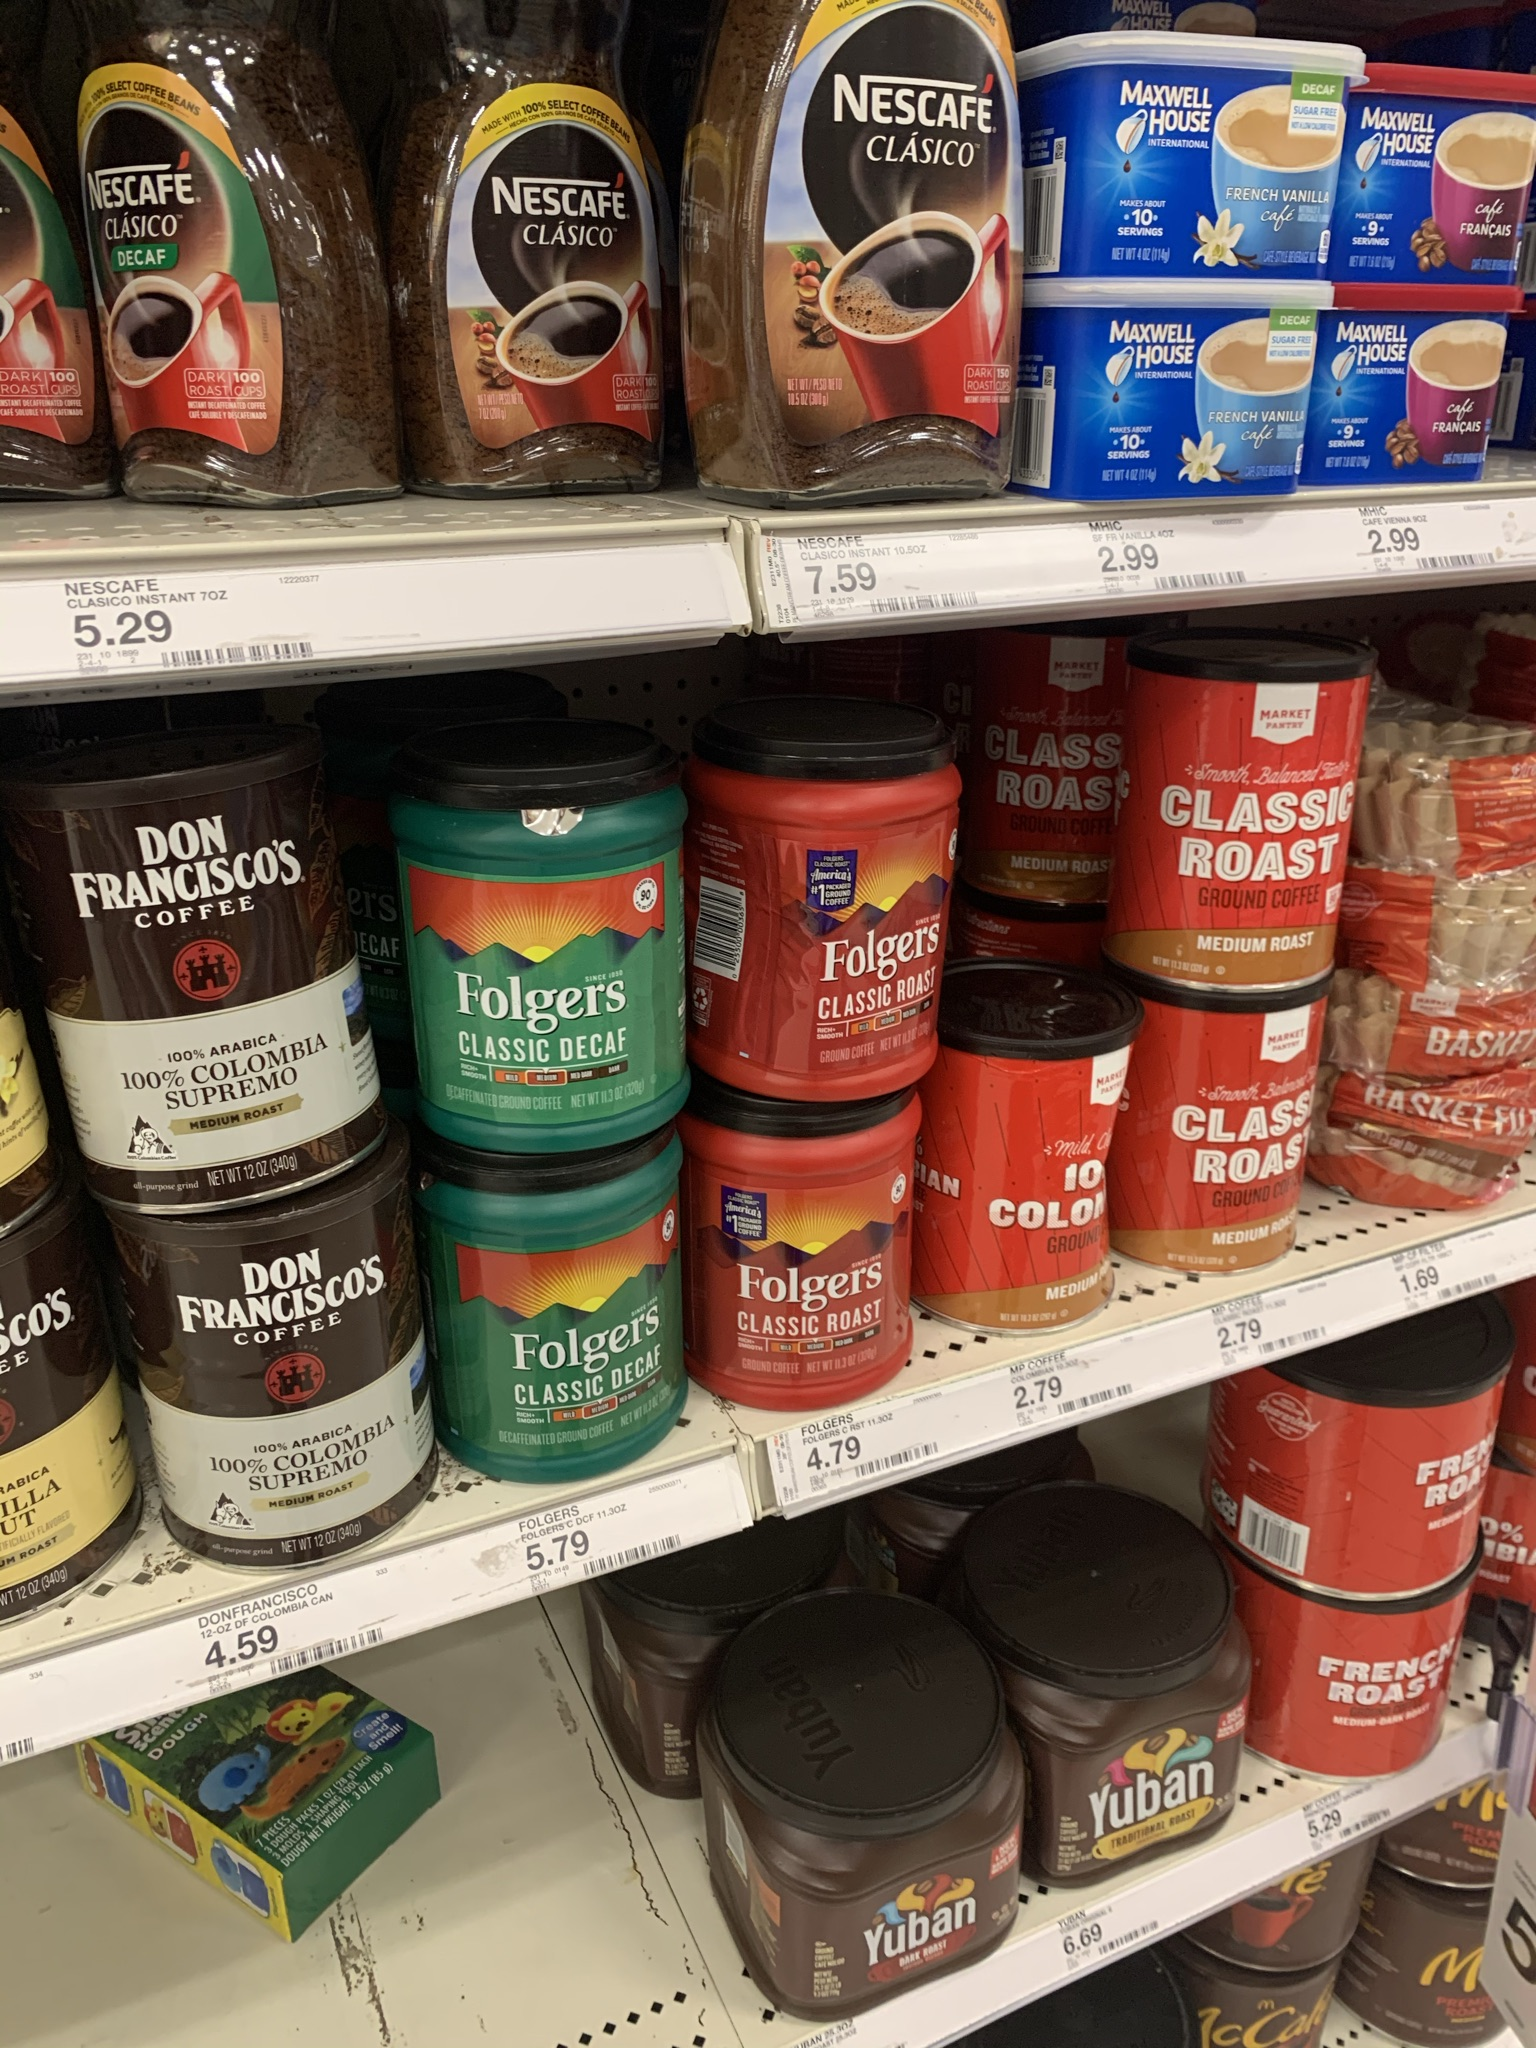can: (50, 769, 366, 1200), (403, 751, 681, 1142), (118, 1216, 423, 1569), (687, 742, 962, 1097), (426, 1156, 687, 1480), (1121, 668, 1367, 997), (697, 1111, 918, 1414), (931, 1035, 1115, 1288), (1283, 1384, 1486, 1572), (1147, 1022, 1309, 1253), (1294, 1608, 1439, 1761)
